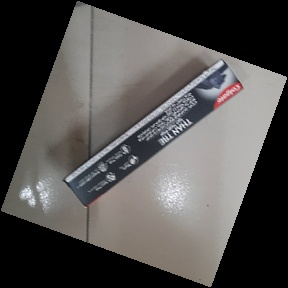Colgate Than: (63, 58, 244, 206)
